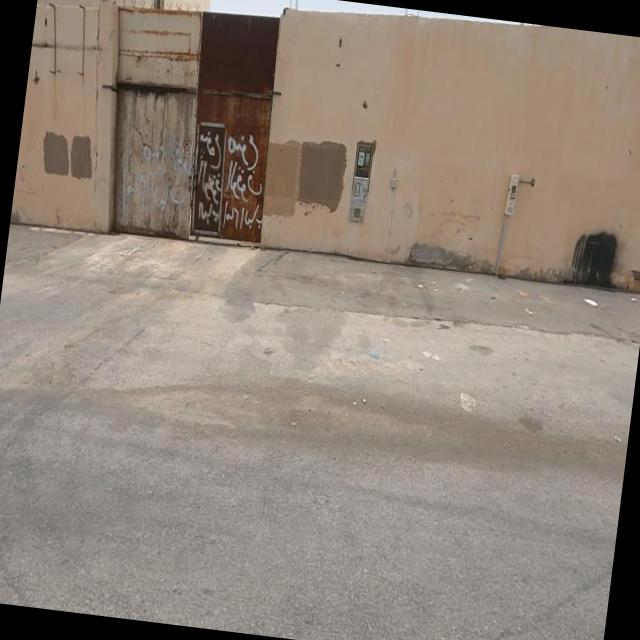debris: (132, 38, 326, 322), (84, 88, 228, 268), (554, 253, 634, 354)
